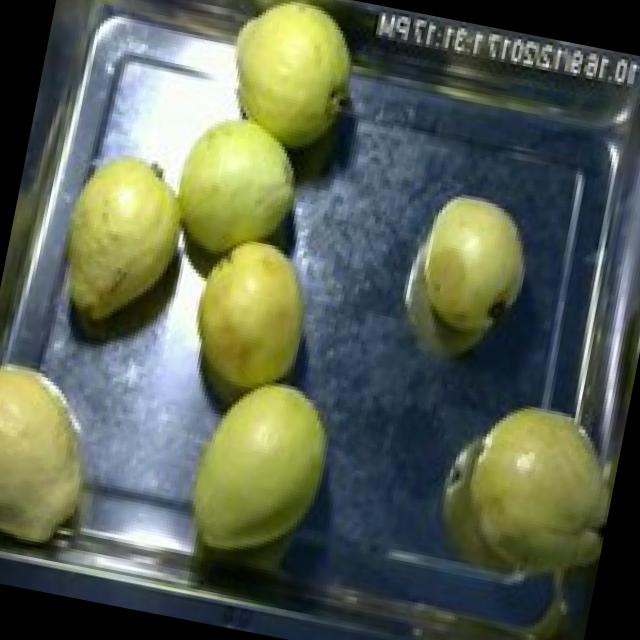Fruit: (409, 373, 629, 620), (28, 128, 212, 356), (168, 356, 352, 576), (163, 218, 335, 430), (146, 96, 316, 286), (0, 337, 126, 570), (392, 177, 546, 355), (207, 0, 367, 170)
